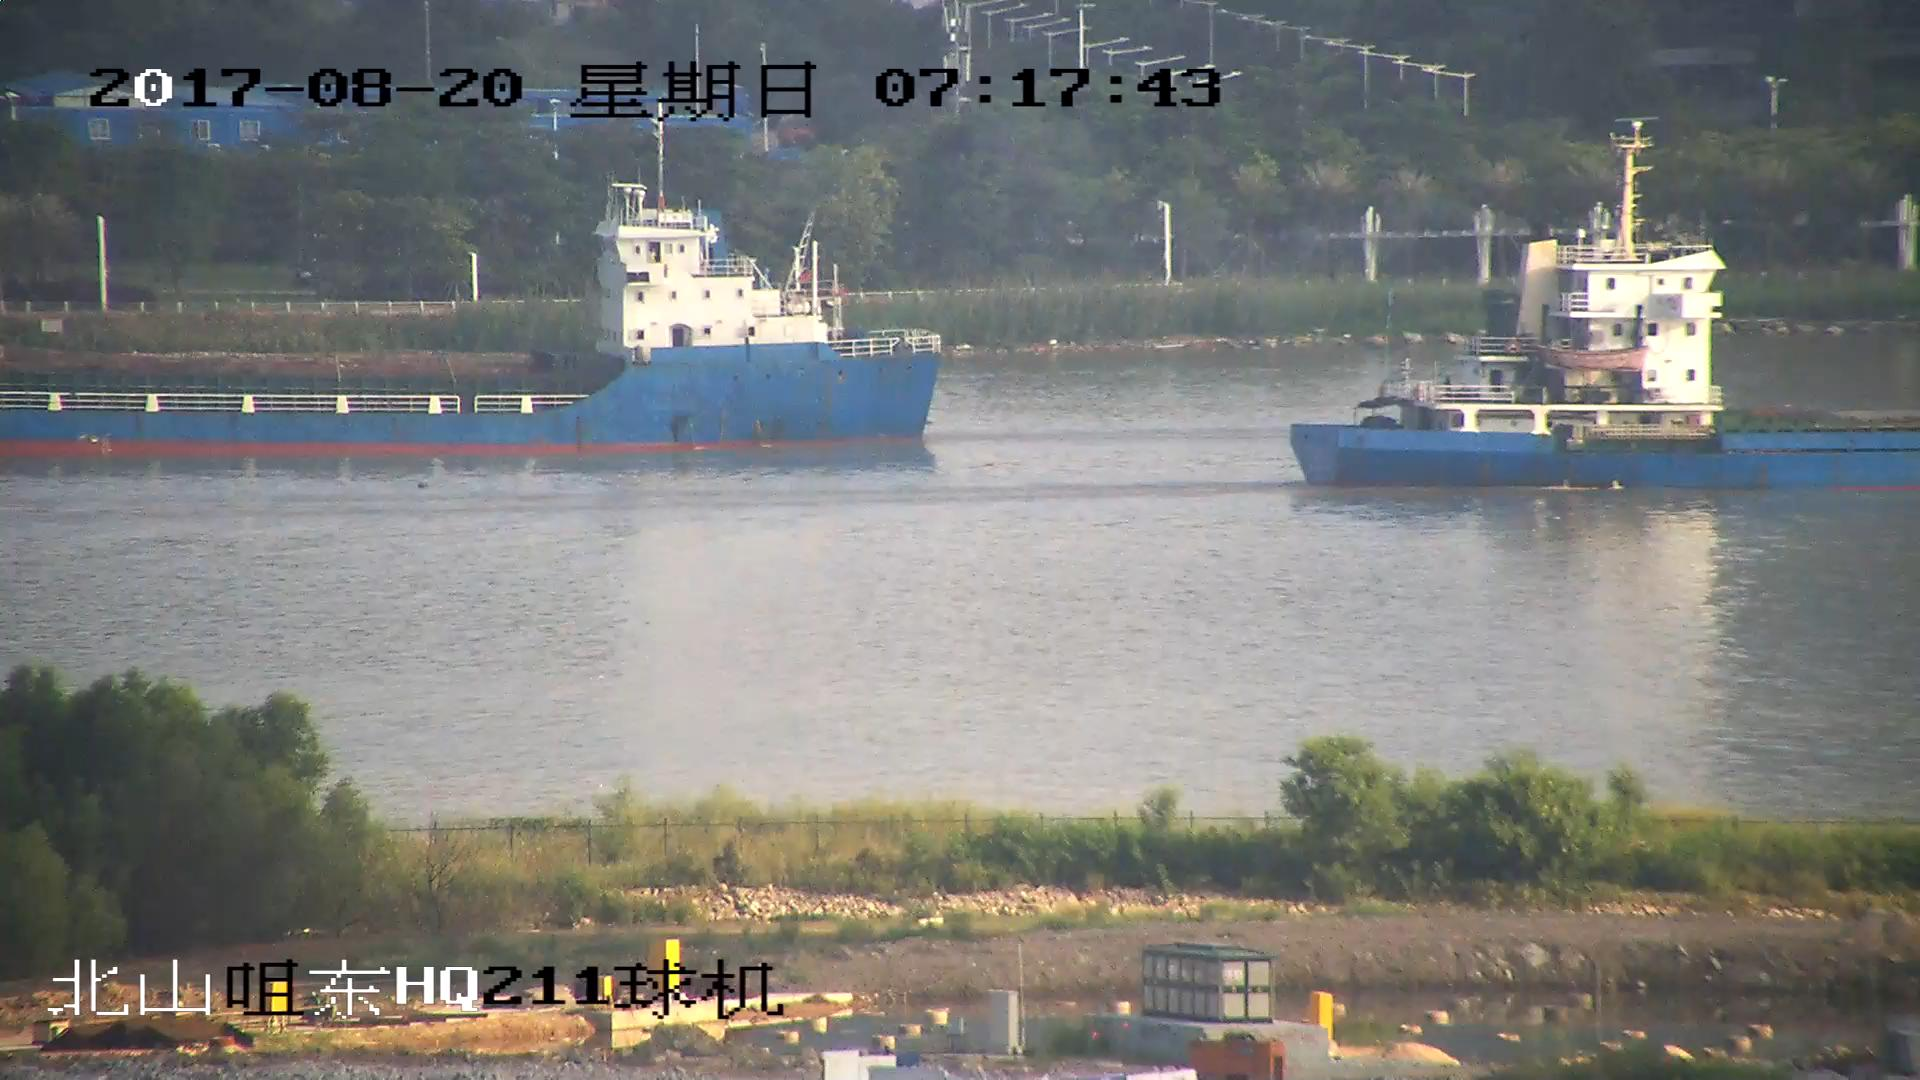general cargo ship: (1, 183, 935, 456), (1283, 182, 1920, 490)
